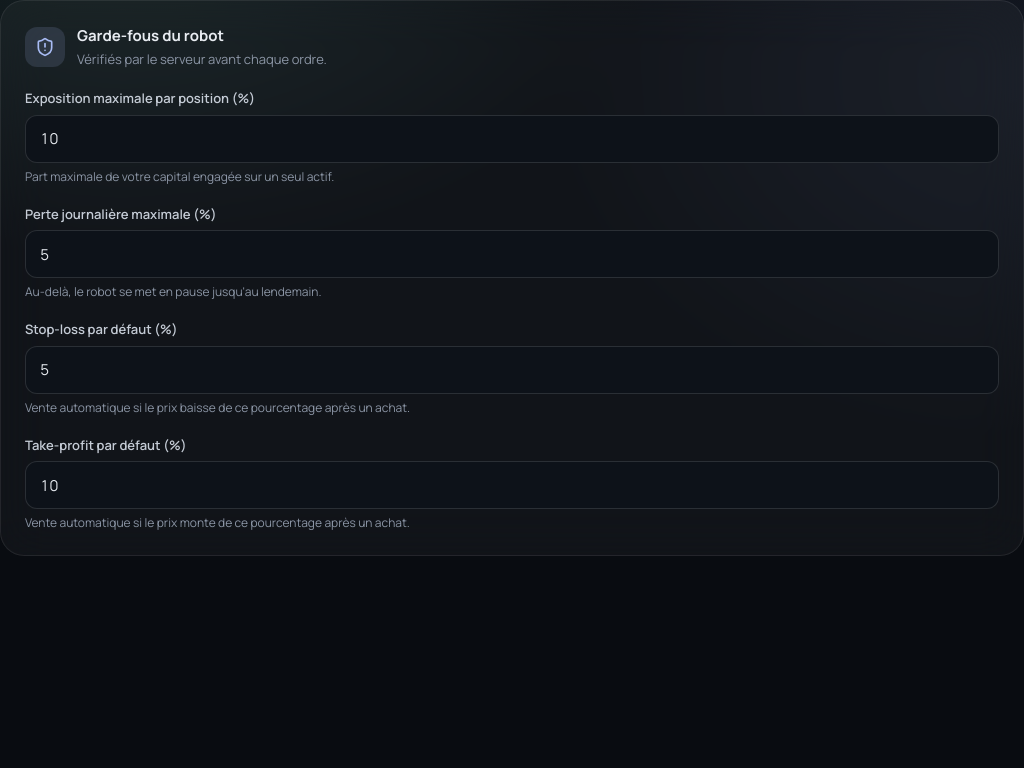
Scenario: RiskCard › refuse abc sans appeler l'API
This screenshot has width=1024, height=768.
Check: the heading "Garde-fous du robot" is shown, box [77, 25, 224, 46]
Replace the text in the field labelled "Exposition maximale par position (%)" with "abc" at [512, 138], box [25, 114, 999, 162]
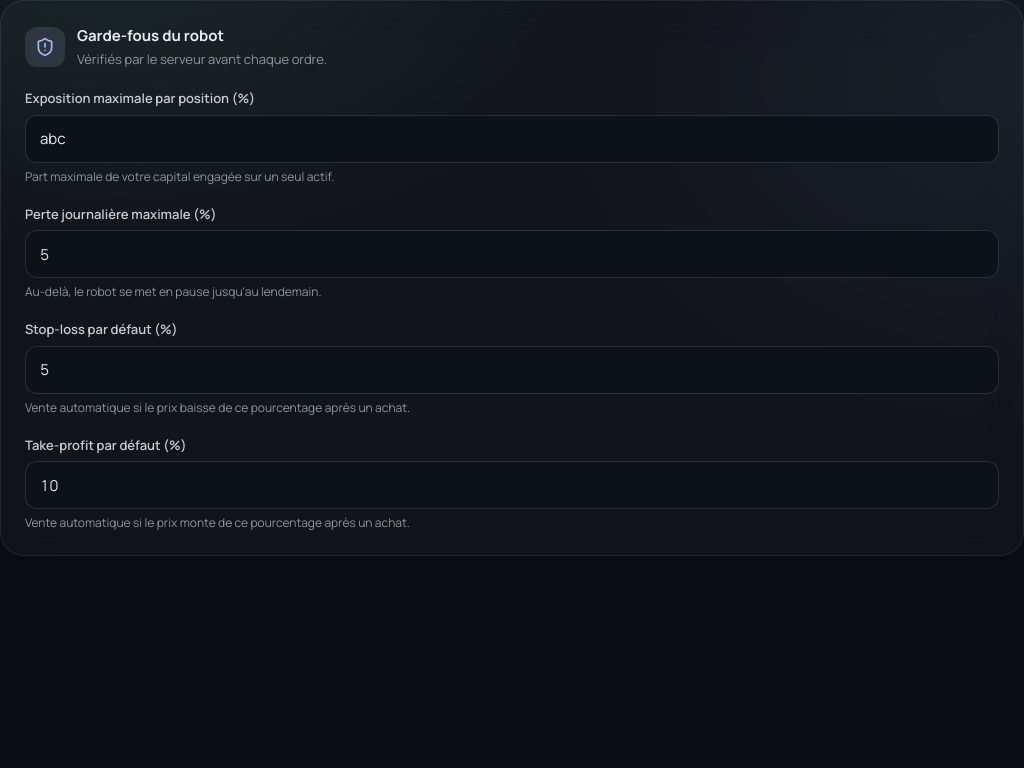
Leave the field labelled "Exposition maximale par position (%)", box [25, 114, 999, 162]
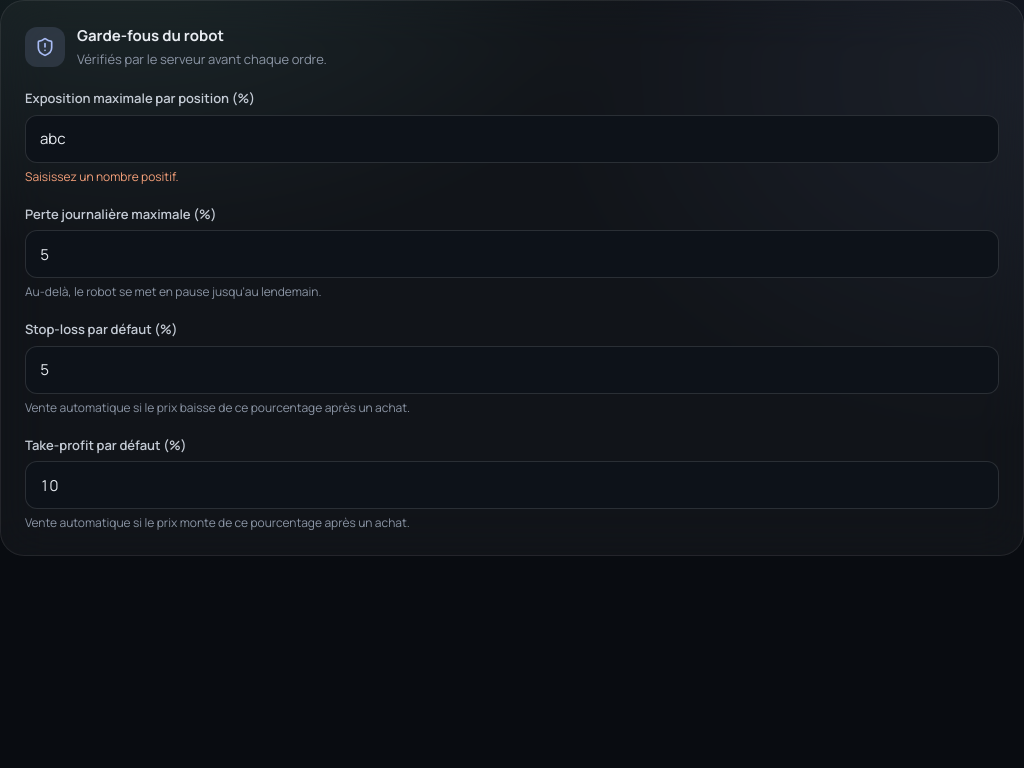
Check: the message shows "Saisissez un nombre positif", box [25, 168, 179, 184]
